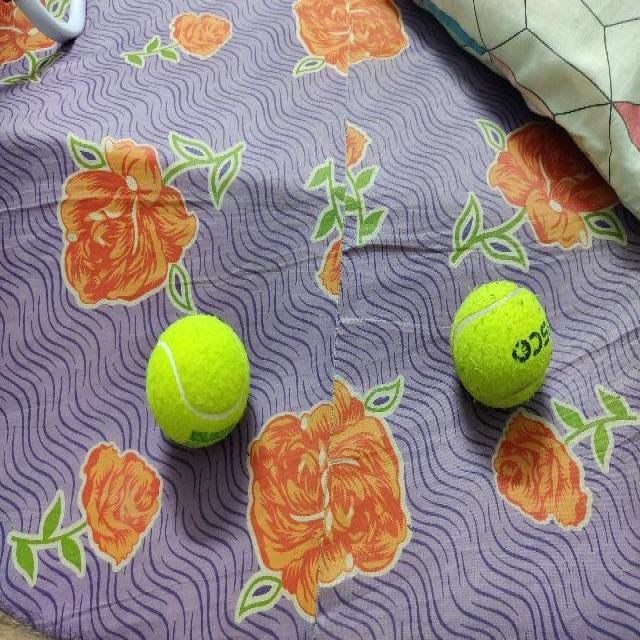tennis-ball: (145, 311, 249, 449), (450, 278, 553, 410)
